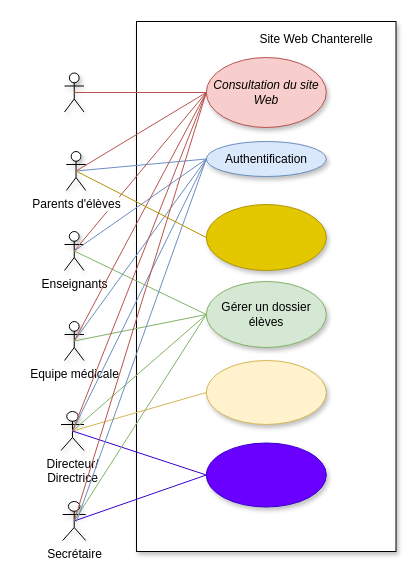
Some shapes in this 420 by 579 pixel diagram are drawn without their labels. The centre of each missing label's shape, as x and y in pixels:
Gérer le contenu du site Web: the point at 266,476
Gérer le dossier de son enfant: the point at 266,239
Gérer un dossier enseignants et/ou équipe médicale: the point at 266,394
Utilisateurs anonyme: the point at 75,93
